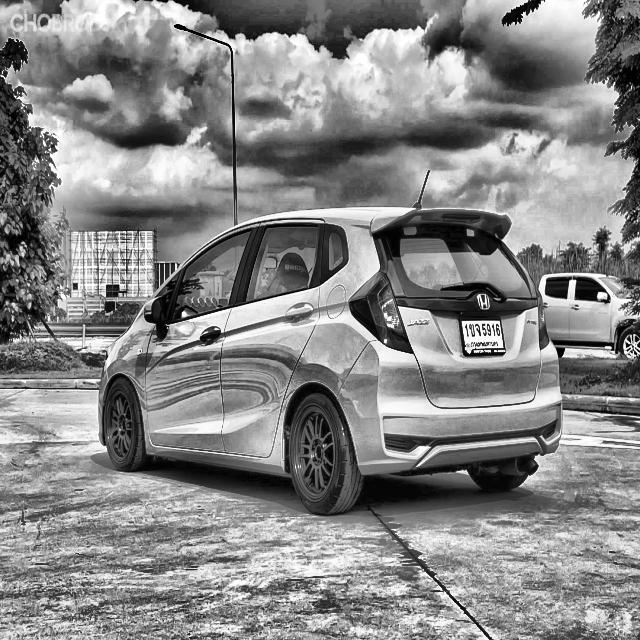license-plate: (456, 314, 509, 358)
